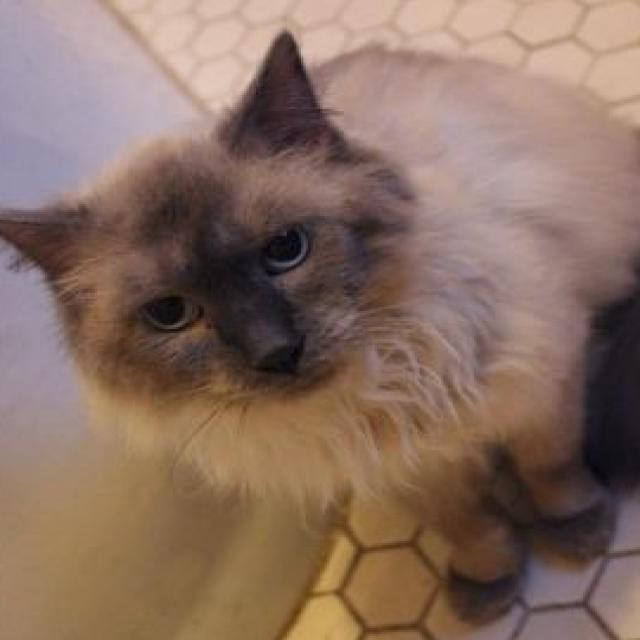Ragdoll: (0, 22, 640, 630)
